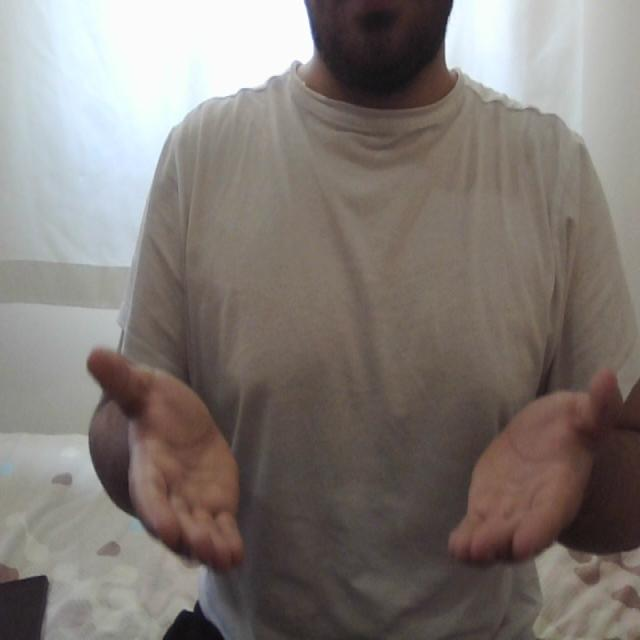Evet: (81, 348, 625, 581)
